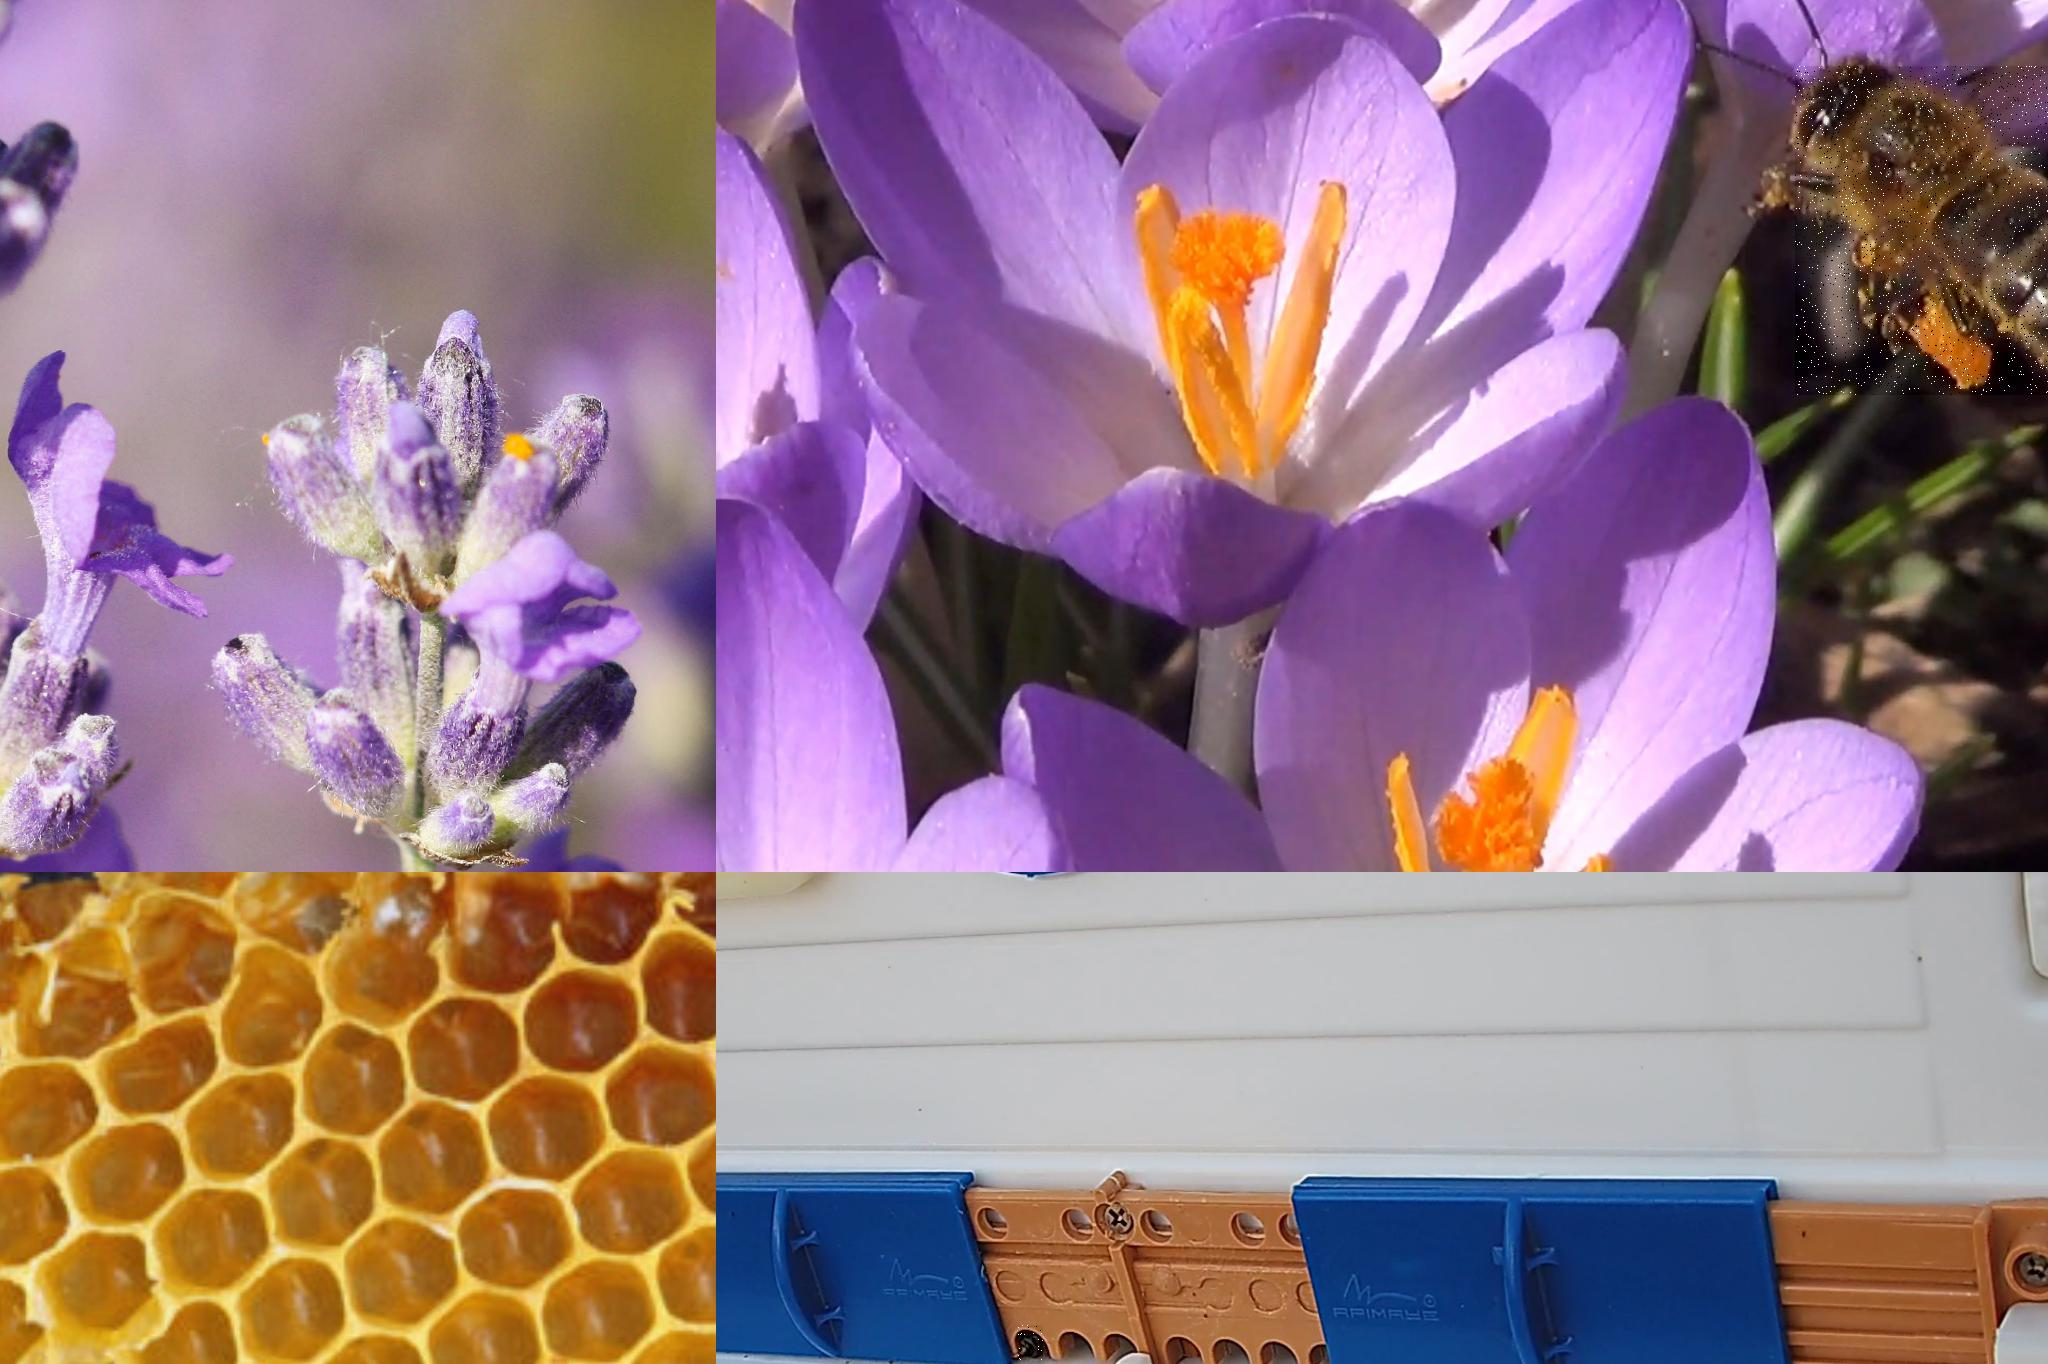bee: (1018, 1324, 1044, 1361)
pollenbee: (1794, 65, 2046, 397)
